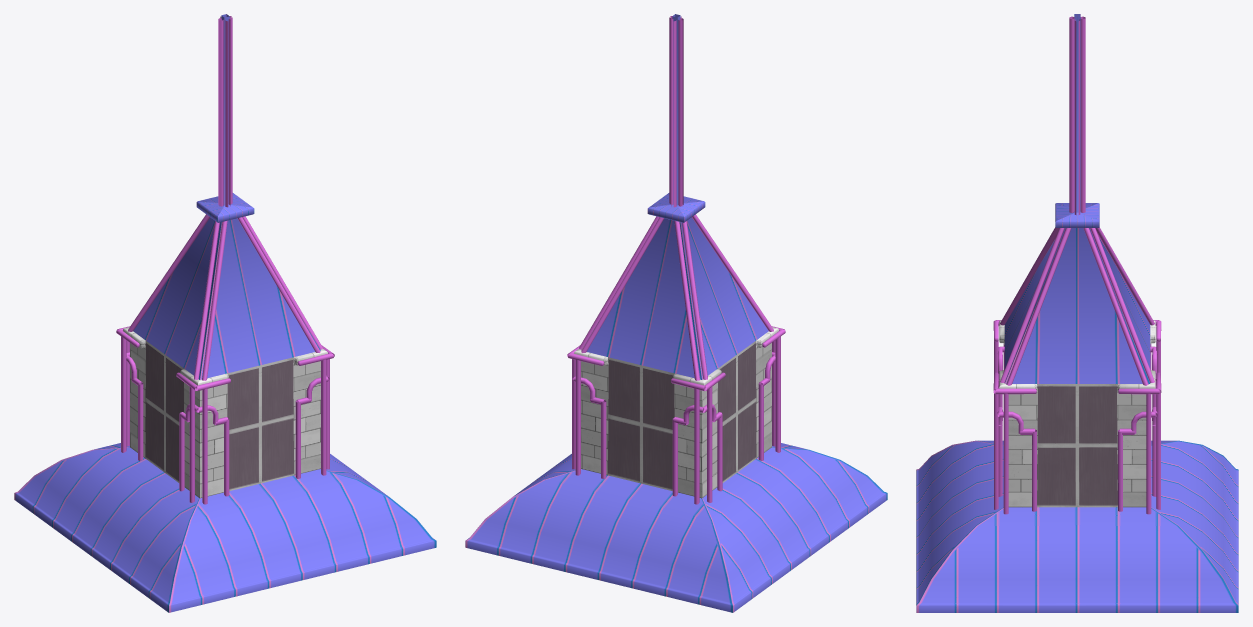
The model's file is SM_Tower_Roof_01.fbx.
The picture shows the model from 3 angles, left to right: view 1: azimuth 30°, elevation 25°; view 2: azimuth 150°, elevation 25°; view 3: azimuth 270°, elevation 25°; orthographic projection. The views are drawn at different scales.
Visible parts, largest first — view 1: SM_Tower_Roof_01; view 2: SM_Tower_Roof_01; view 3: SM_Tower_Roof_01.
Part boxes in pixels (box(x1,y1,x2,y2)): SM_Tower_Roof_01: box(14, 14, 436, 612); SM_Tower_Roof_01: box(465, 14, 887, 612); SM_Tower_Roof_01: box(916, 14, 1238, 612).
Bounding box in the file's own units: 640 × 640 × 1160.
